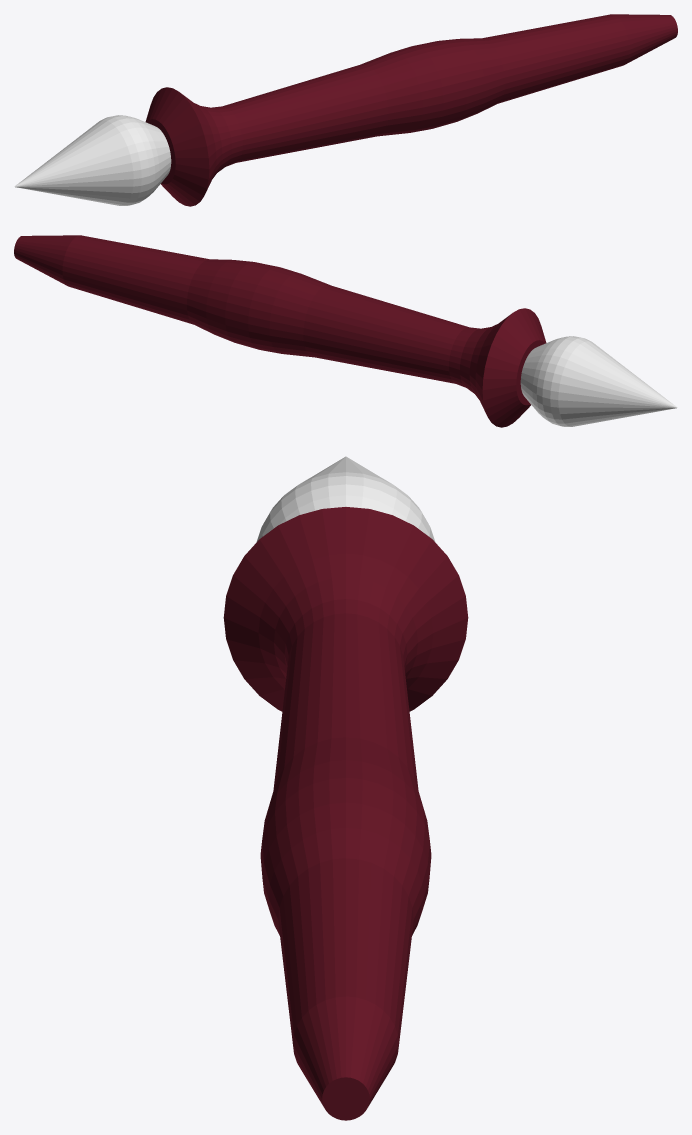
The model's file is 260418_pen.glb.
3 renders of one model, top to bottom at view 1: azimuth 30°, elevation 25°; view 2: azimuth 150°, elevation 25°; view 3: azimuth 270°, elevation 25°, orthographic. The views are drawn at different scales.
Parts seen in each view (by area): view 1: Cylinder, Cone; view 2: Cylinder, Cone; view 3: Cylinder, Cone.
Boxes of the visible parts, <box> form: Cylinder: <box>145,14,677,206</box>; Cone: <box>14,115,171,205</box>; Cylinder: <box>14,235,546,427</box>; Cone: <box>520,336,677,426</box>; Cylinder: <box>223,507,468,1120</box>; Cone: <box>256,456,435,542</box>.
Bounding box in the file's own units: 10.48 × 1.69 × 1.69.
